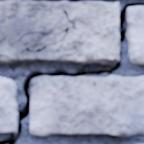brick: (0, 1, 118, 62), (30, 76, 143, 136), (0, 77, 16, 131), (128, 8, 143, 63)
crack: (0, 2, 143, 143)
